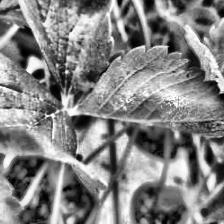Powdery Mildew Leaf: (68, 45, 224, 137), (184, 24, 224, 123)
